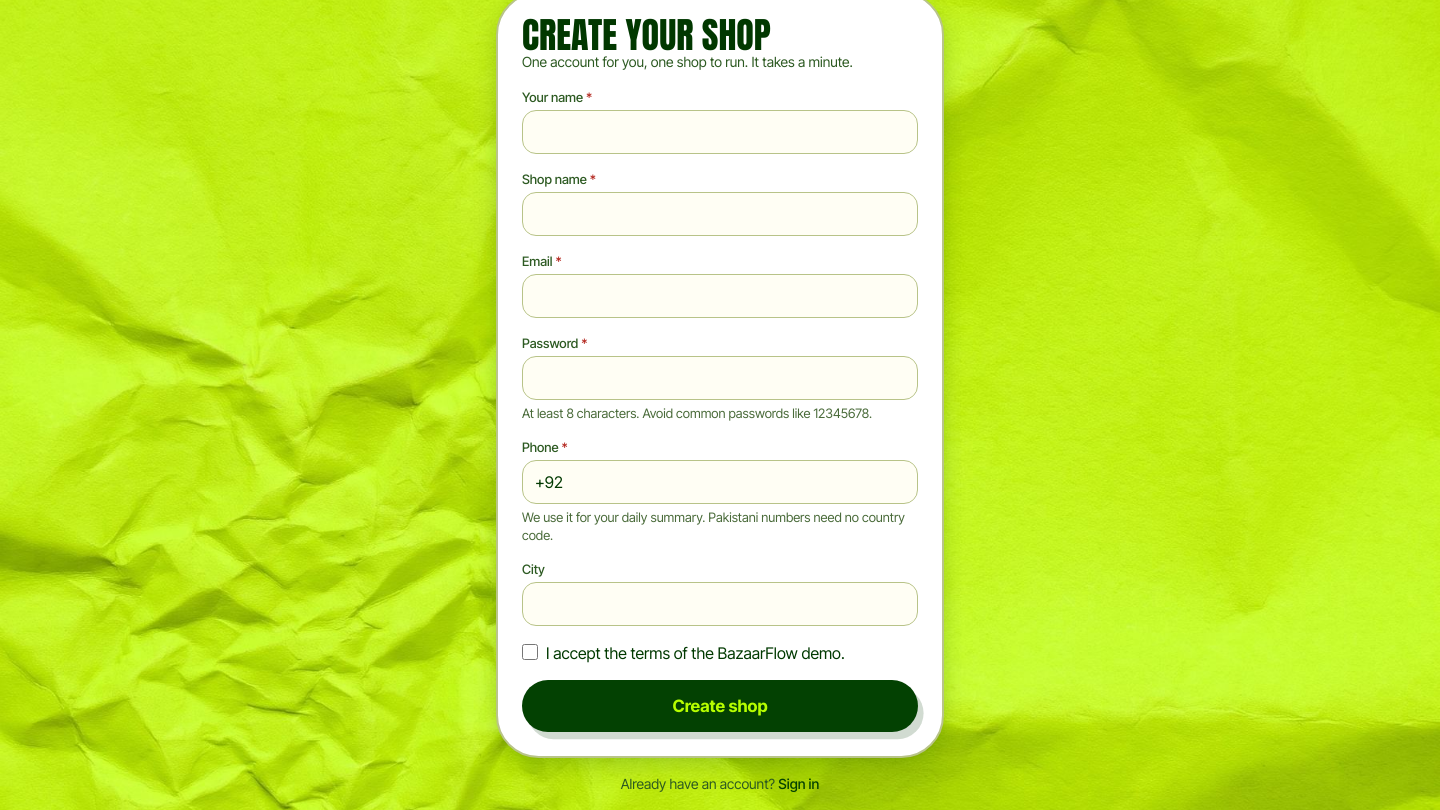
Scenario: the create-your-shop form › starts with +92 in the phone field and explains every problem inline, sending nothing
The image size is (1440, 810).
(page scrolled)
Expected: the field labelled "Phone *" holds "+92", [522,460,918,504]
Click the button "Create shop" at coordinates (720, 706), box [522,680,918,732]
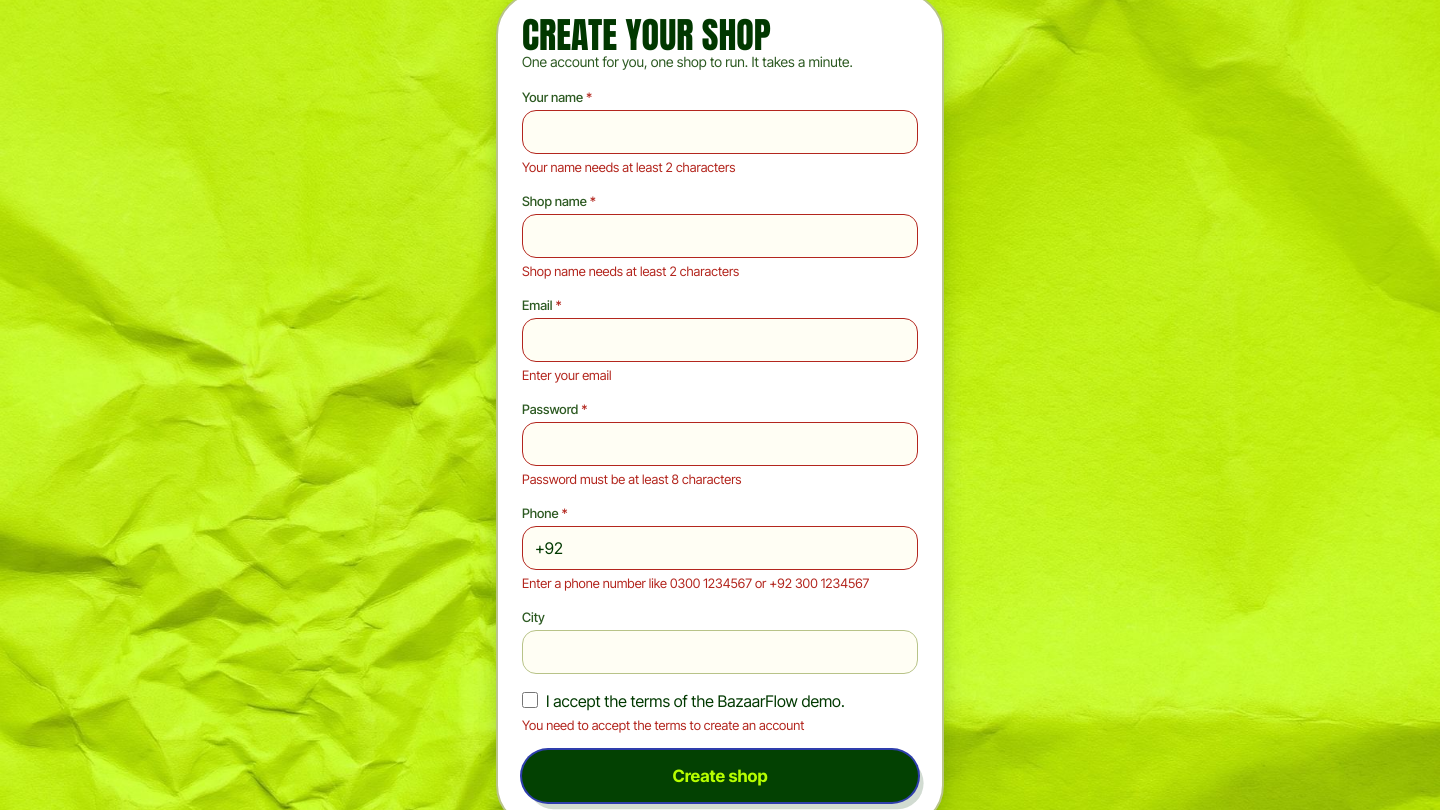
Result: the text "Your name needs at least 2 characters" is shown at [522,159,735,175]
Result: the text "Enter your email" is shown at [522,367,612,383]
Result: the text "You need to accept the terms to create an account" is shown at [522,717,804,733]
